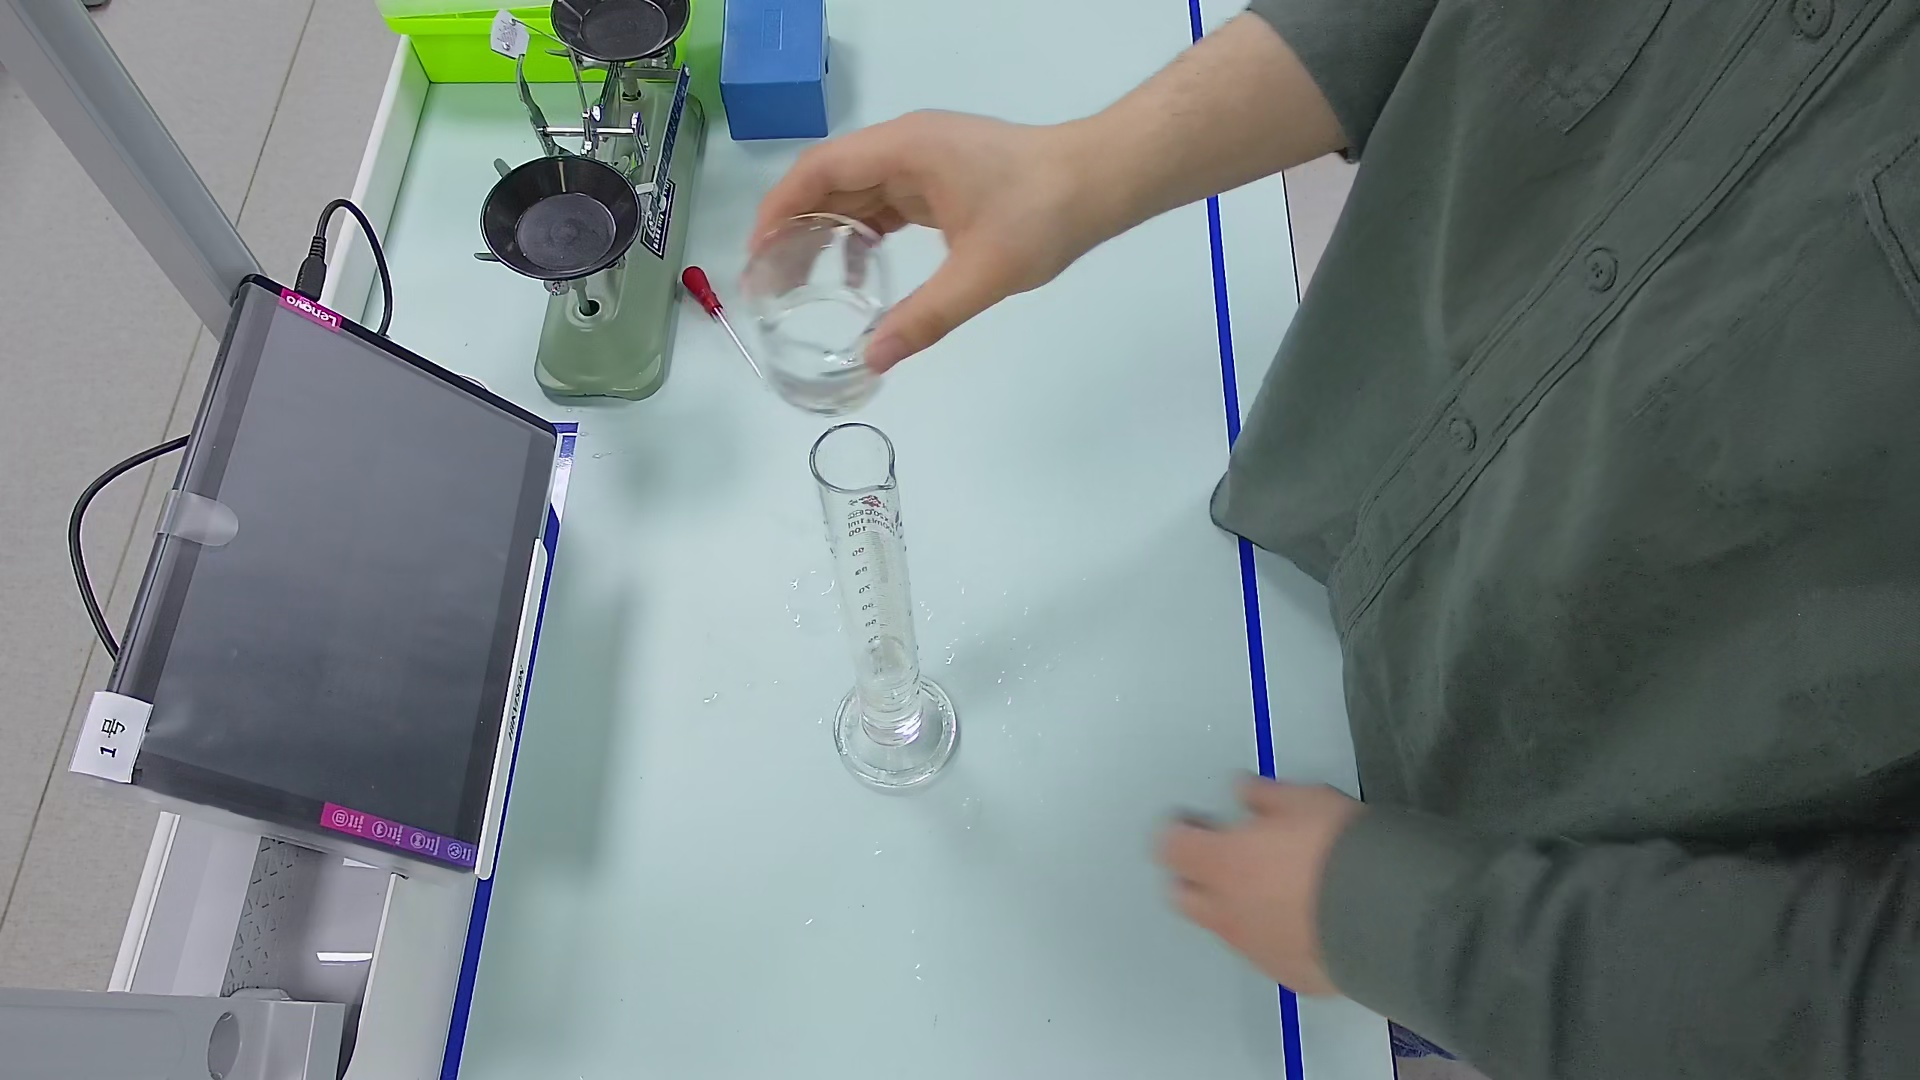ao: (853, 633, 916, 680)
bei: (733, 222, 895, 411)
diguan: (680, 264, 765, 407)
diguantou: (676, 258, 727, 326)
hand: (736, 105, 1051, 371), (1164, 764, 1341, 993)
liangdi: (835, 684, 957, 793)
liangtong: (799, 422, 952, 782)
tuo: (477, 153, 647, 290), (550, 1, 698, 65)
